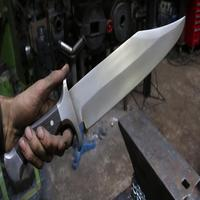knife: (5, 15, 187, 181)
